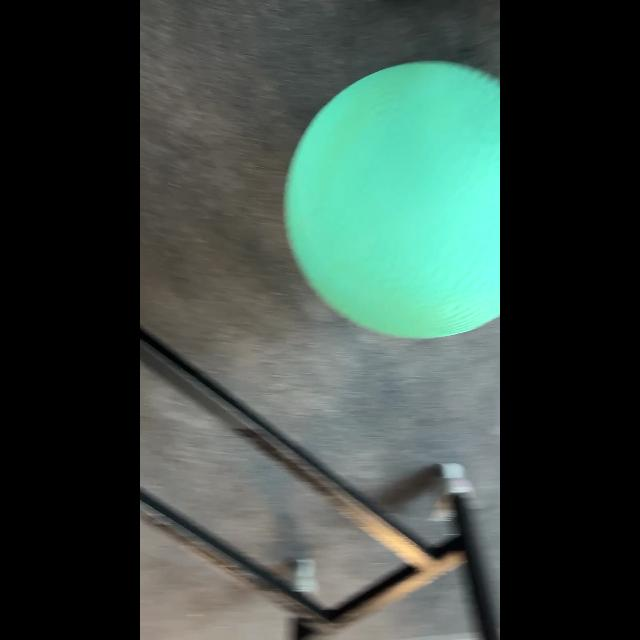ALGAE: (282, 60, 500, 340)
